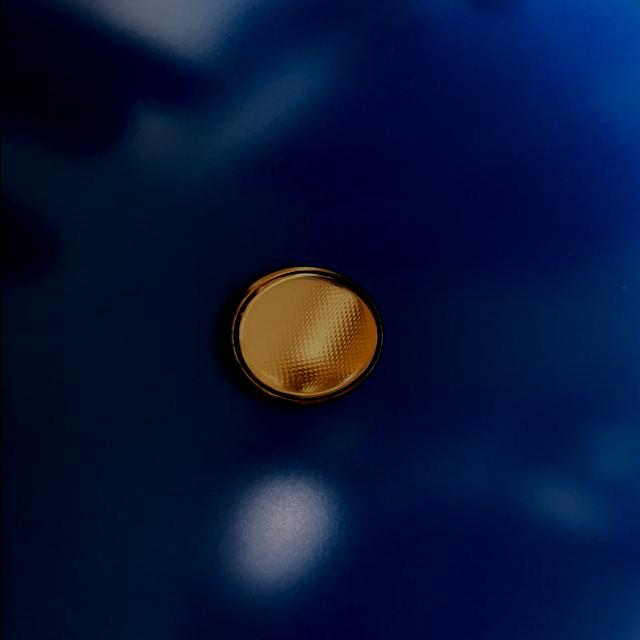COIN: (217, 264, 384, 406)
